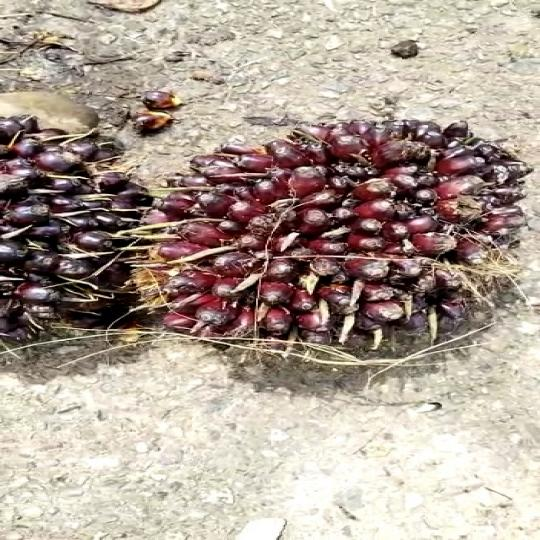mentah: (148, 105, 540, 389), (0, 101, 179, 354)
